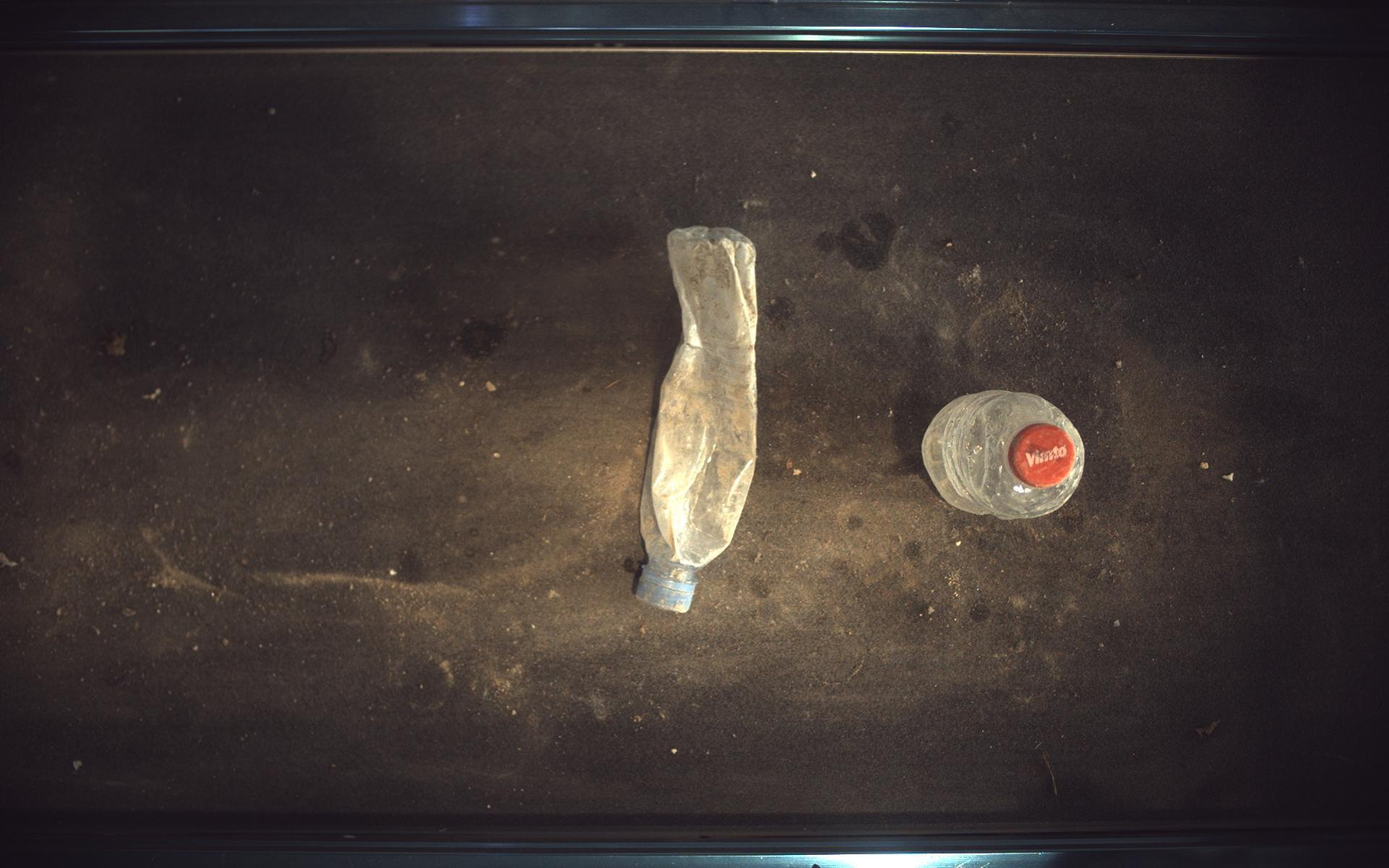general_w: (636, 226, 759, 614), (924, 390, 1087, 519)
